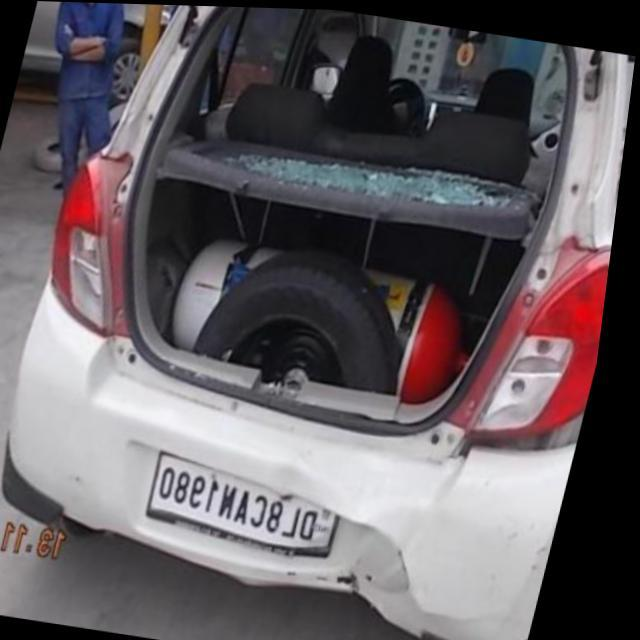dent: (332, 522, 449, 631), (276, 455, 322, 496)
dislocated part: (463, 407, 595, 455)
